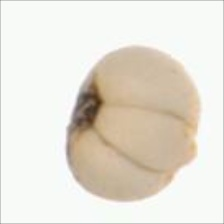L5: (93, 104, 199, 176), (64, 67, 105, 146), (168, 128, 200, 176)
L6: (57, 40, 205, 205)
